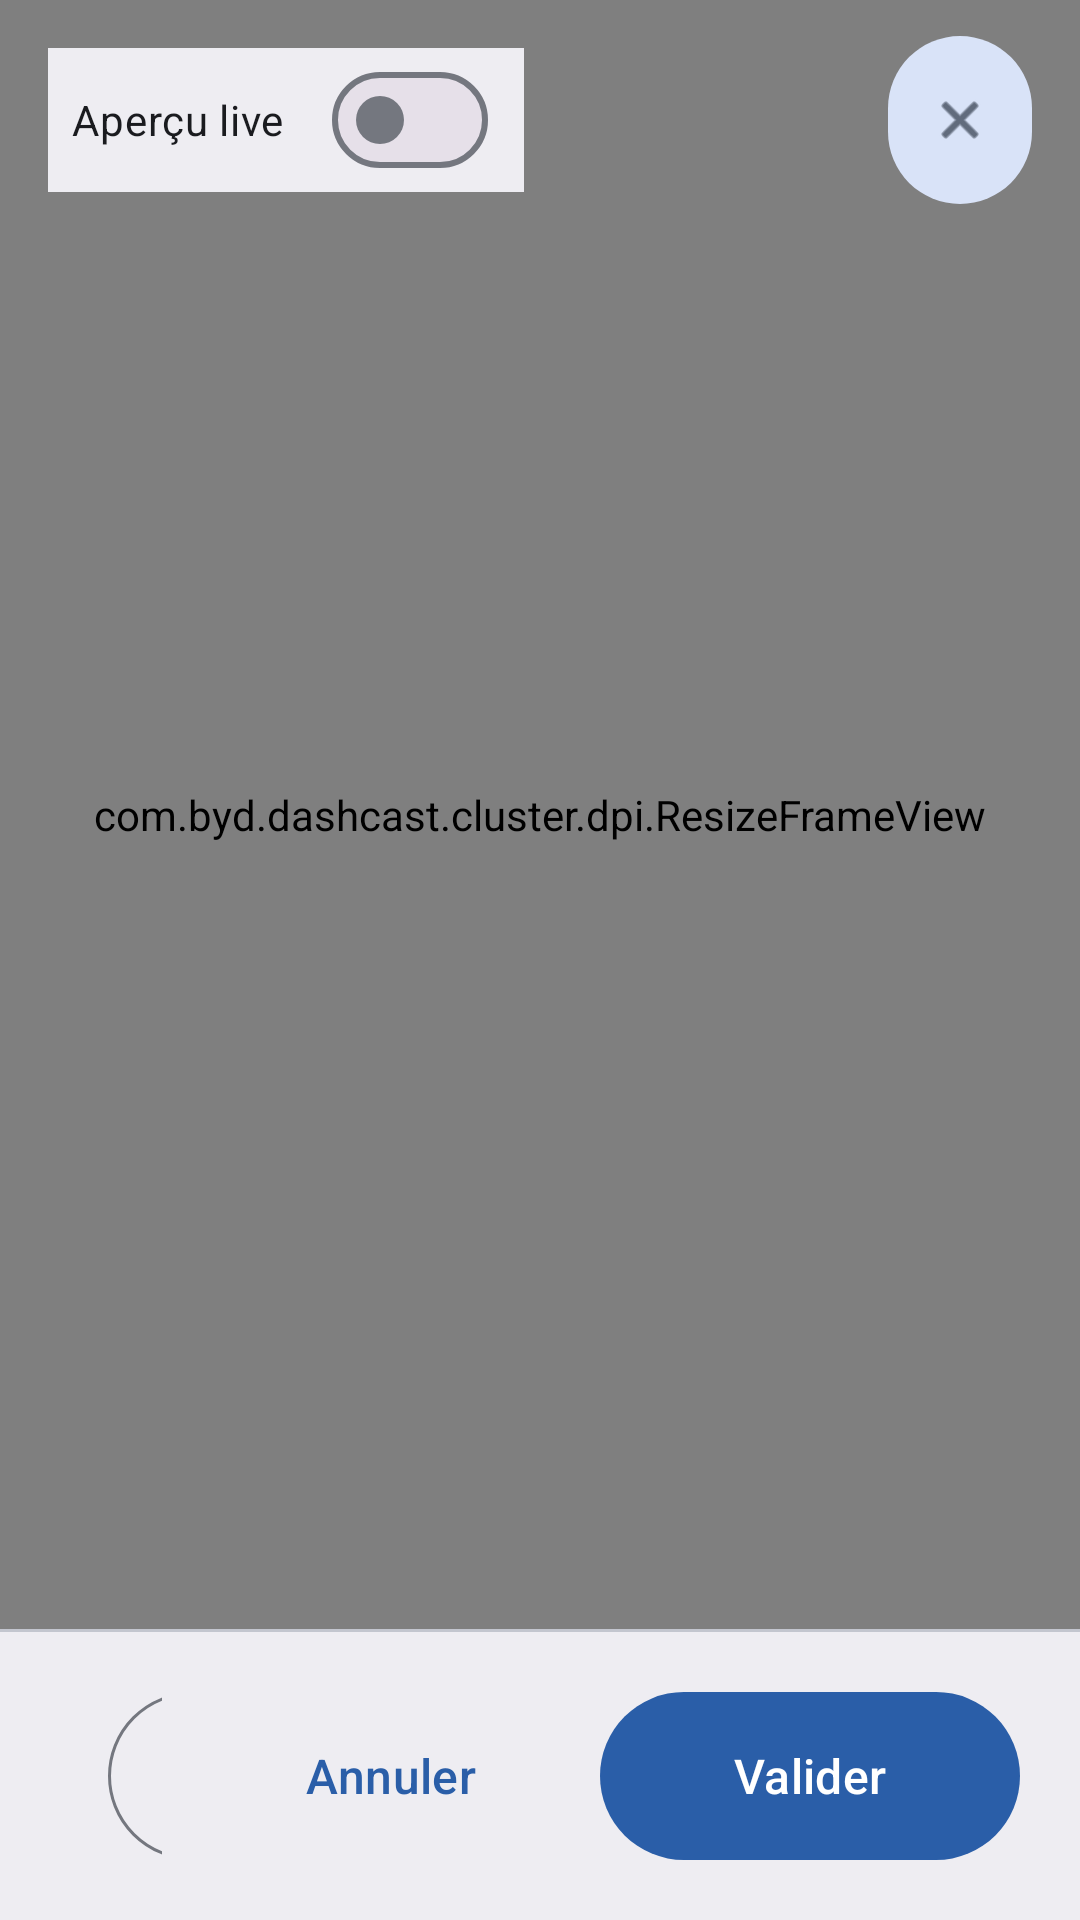

Named icons in this screenshot (1080x1920) and their bounding boxes, [left=x1, top=y1, right=x2, bottom=y2]:
Fermer: [left=888, top=36, right=1032, bottom=204]
